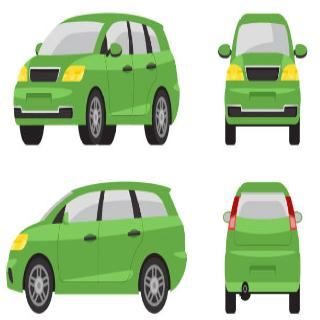Normal_vehicle: (6, 179, 193, 313), (13, 12, 183, 149), (216, 13, 309, 152), (224, 180, 304, 318)
